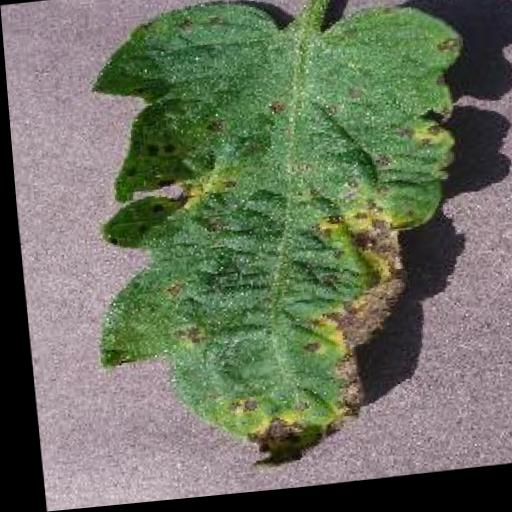Septoria: (64, 0, 495, 484)
